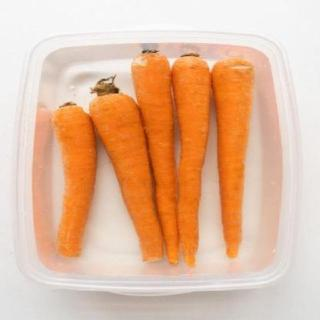carrot: (85, 89, 163, 268), (126, 48, 184, 272), (216, 51, 258, 265), (54, 88, 96, 268), (178, 50, 208, 268)
